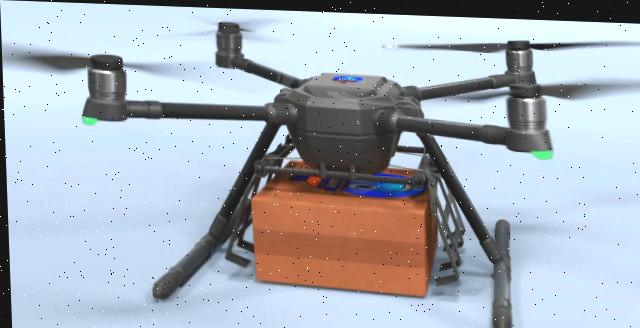drone: (0, 3, 640, 328)
